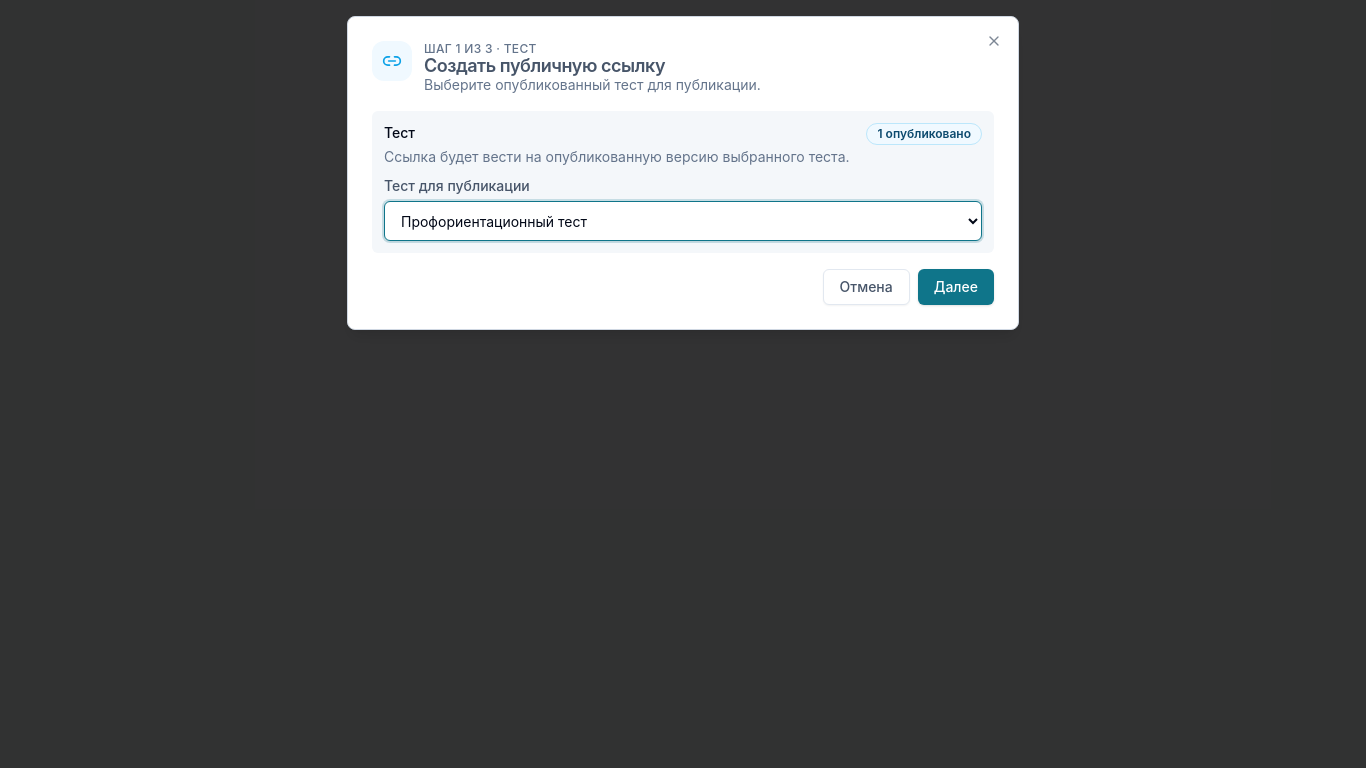
Test: PublicLinkCreateDialog › walks forward to the access step and back again
The width and height of the screenshot is (1366, 768).
Click the button "Далее" at (956, 287), box top-left (918, 269), bottom-right (994, 305)
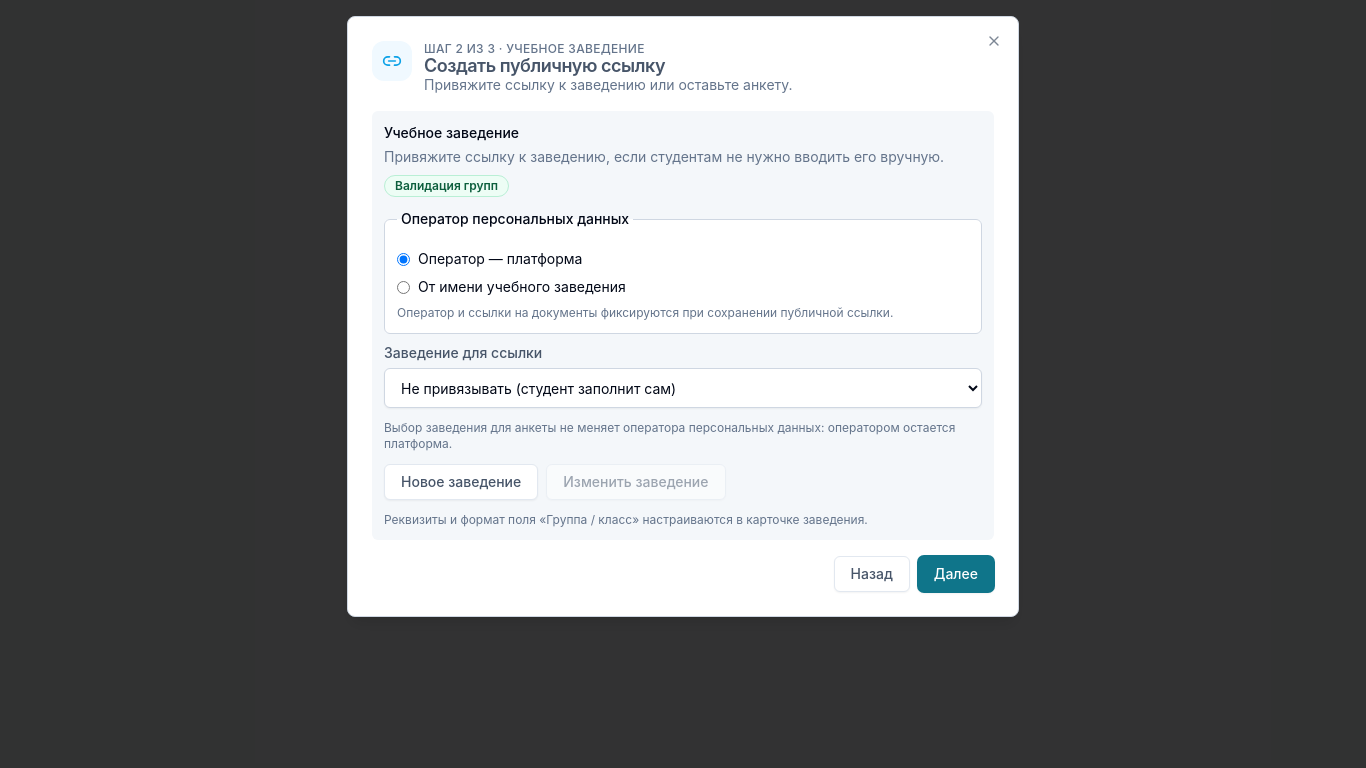
Expected: the text "Шаг 2 из 3 · Учебное заведение" is shown, top-left (424, 41), bottom-right (645, 56)
Click the button "Далее" at (956, 574), box top-left (918, 556), bottom-right (994, 592)
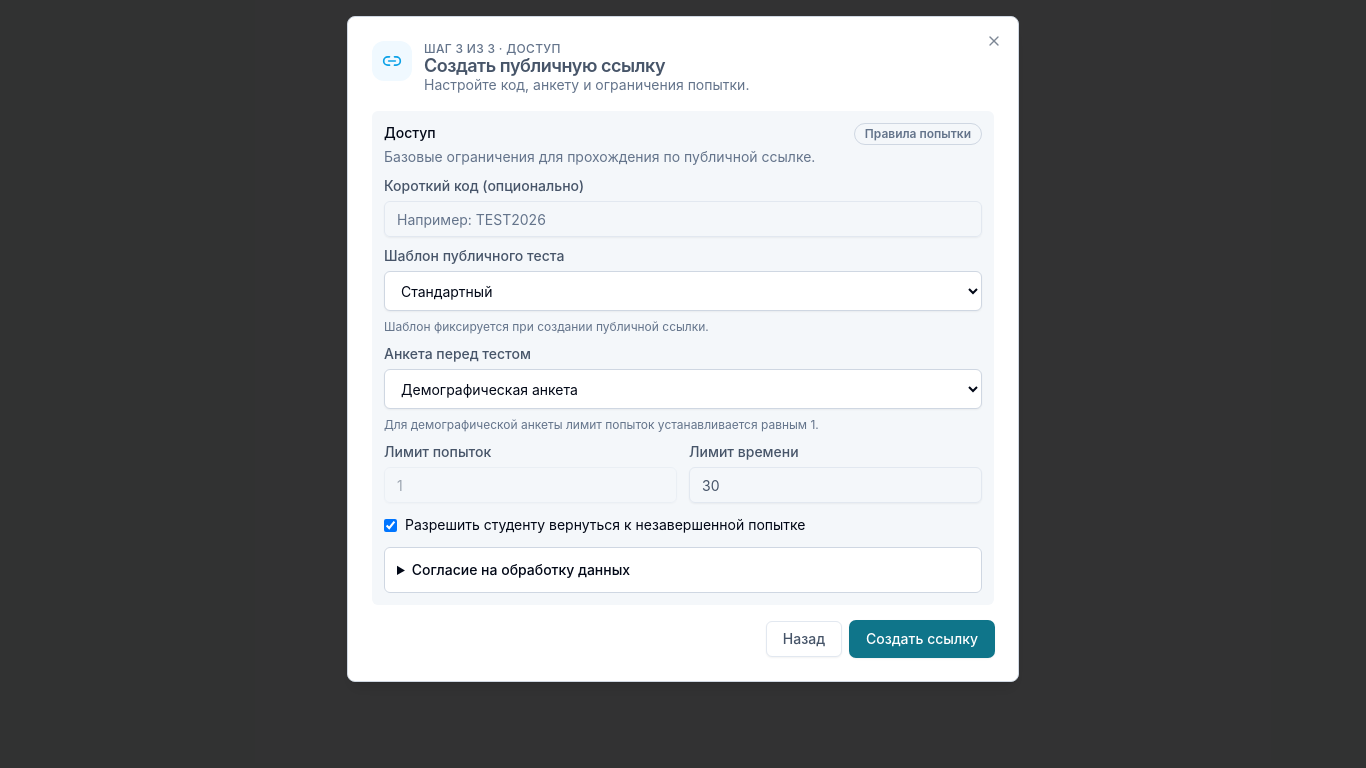
Expected: the text "Шаг 3 из 3 · Доступ" is shown, top-left (424, 41), bottom-right (561, 56)
Expected: the button "Создать ссылку" is shown, top-left (850, 621), bottom-right (994, 657)
Expected: the button "Далее" is gone
Click the button "Назад" at (804, 639), box top-left (766, 621), bottom-right (842, 657)
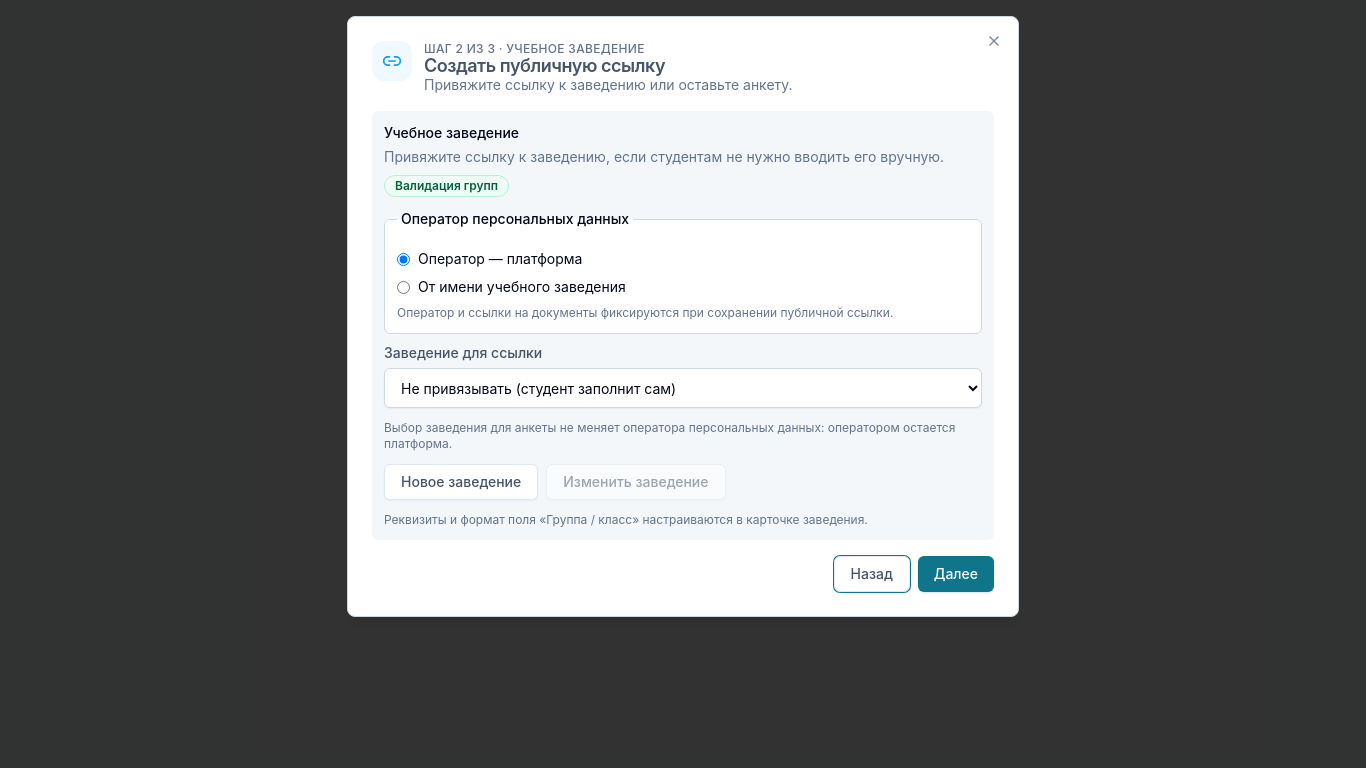
Expected: the text "Шаг 2 из 3 · Учебное заведение" is shown, top-left (424, 41), bottom-right (645, 56)
